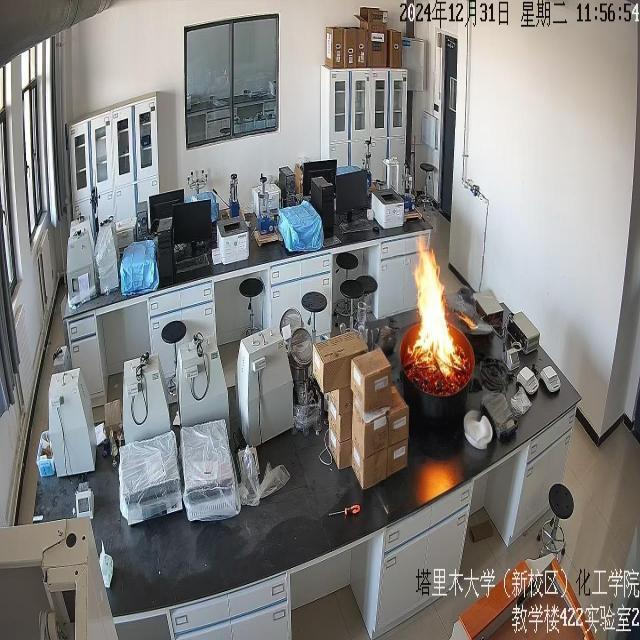smoke: (410, 238, 464, 382)
